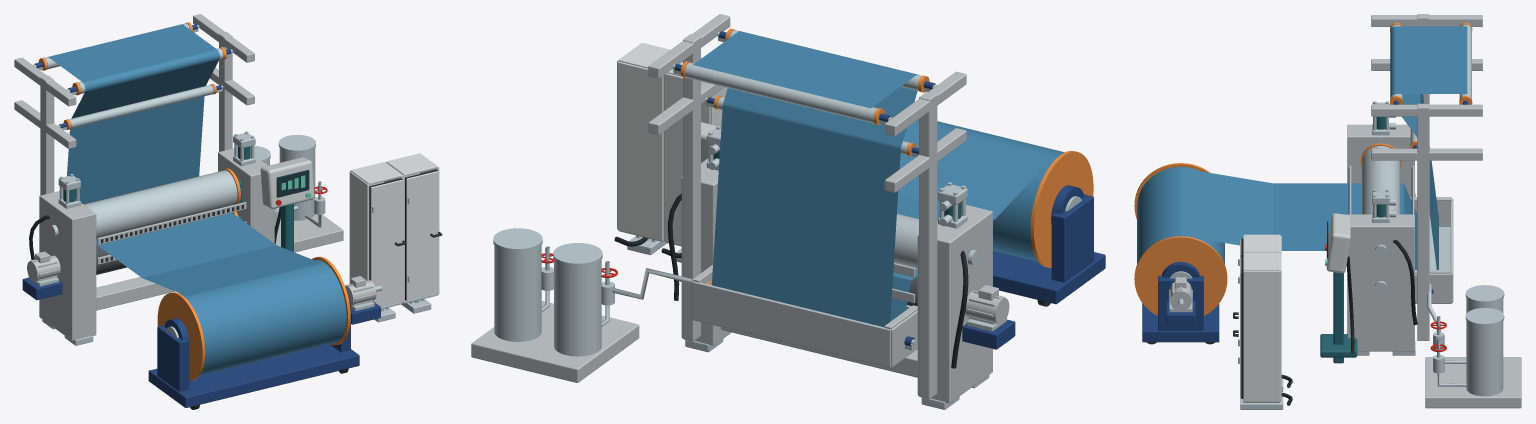
The model's file is dyeing.glb.
The picture shows the model from 3 angles, left to right: view 1: azimuth 30°, elevation 25°; view 2: azimuth 150°, elevation 25°; view 3: azimuth 270°, elevation 25°; orthographic projection. The views are drawn at different scales.
Parts seen in each view (by area): view 1: fabric_web, 染色卷装_drum, f3_frame, f3_frame.013, DyePad泳动工作辊_drum.001, f3_door.001, f3_door, f3_frame.002, f3_case_wall.002, 染色卷装_end, f3_frame.014, operator_console (+22 smaller); view 2: fabric_web, f3_frame, f3_case_rear, f3_case_rear.002, f3_frame.001, f3_frame.012, f3_frame.003, f3_mix_tank, f3_mix_tank.001, 染色卷装_drum, f3_frame.013, 染色卷装_end (+17 smaller); view 3: fabric_web, f3_frame.002, f3_case_wall.005, 染色卷装_end.001, f3_frame.012, 染色卷装_drum, f3_frame.003, f3_mix_tank.001, f3_frame, DyePad泳动工作辊_drum.001, f3_frame.013, f3_frame.005 (+22 smaller).
Boxes of the visible parts, x1,y1,x2,y2 form: fabric_web: (48,24,320,295); 染色卷装_drum: (179,260,346,375); f3_frame: (39,191,96,340); f3_frame.013: (148,344,359,407); DyePad泳动工作辊_drum.001: (84,170,237,239); f3_door.001: (406,171,438,300); f3_door: (370,180,402,306); f3_frame.002: (218,148,274,243); f3_case_wall.002: (349,171,369,283); 染色卷装_end: (157,292,205,380); f3_frame.014: (157,325,189,391); operator_console: (260,157,314,208); fabric_web: (693,31,1054,327); f3_frame: (917,205,992,403); f3_case_rear: (692,281,890,367); f3_case_rear.002: (617,61,663,240); f3_frame.001: (919,92,937,399); f3_frame.012: (471,301,639,382); f3_frame.003: (683,34,700,341); f3_mix_tank: (554,260,601,356); f3_mix_tank.001: (494,245,541,341); 染色卷装_drum: (915,119,1064,261); f3_frame.013: (993,250,1105,304); 染色卷装_end: (1030,150,1093,268); fabric_web: (1181,26,1467,269); f3_frame.002: (1347,214,1414,351); f3_case_wall.005: (1243,270,1280,402); 染色卷装_end.001: (1134,236,1227,315); f3_frame.012: (1425,357,1521,408); 染色卷装_drum: (1137,167,1224,264); f3_frame.003: (1417,103,1429,340); f3_mix_tank.001: (1466,321,1503,396); f3_frame: (1347,124,1414,196); DyePad泳动工作辊_drum.001: (1361,146,1400,214); f3_frame.013: (1142,303,1219,342); f3_frame.005: (1371,104,1482,116).
Bounding box in the file's own units: 5.31 × 3.53 × 5.03.
